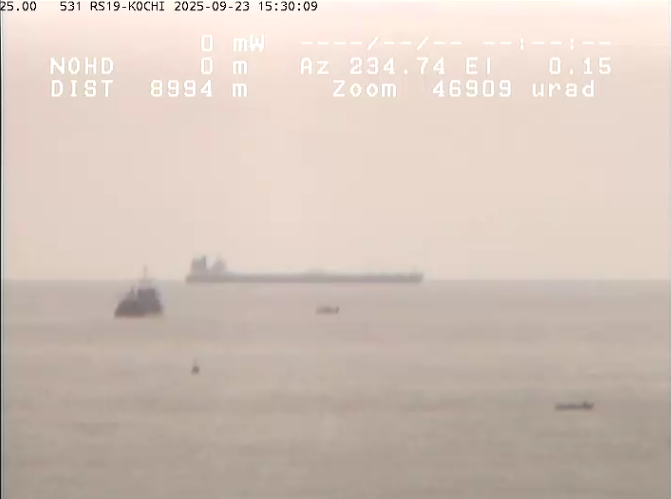FISHING_BOAT: (545, 395, 616, 416)
TANKER: (173, 243, 443, 291)
TUGS: (87, 262, 167, 338)
